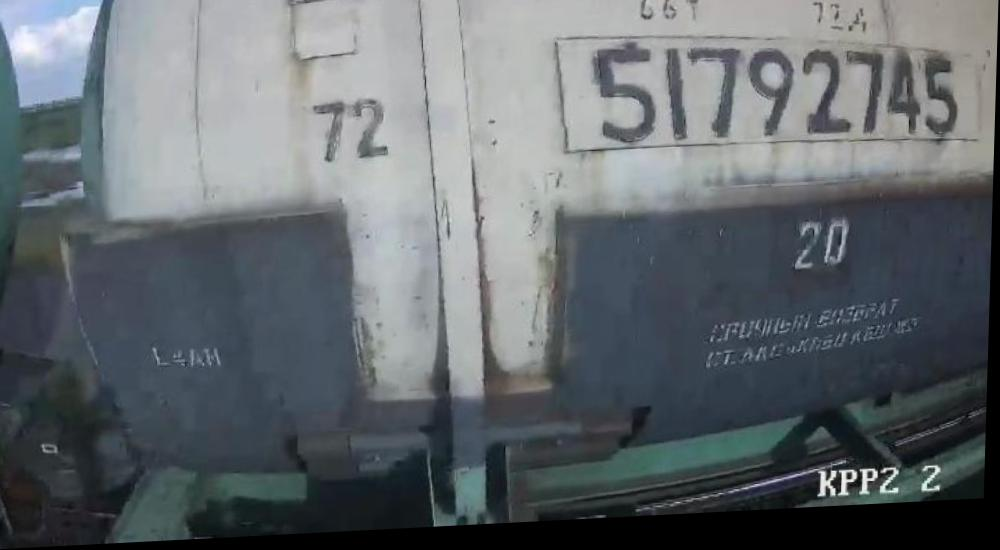Wagon-number: (588, 33, 967, 165)
